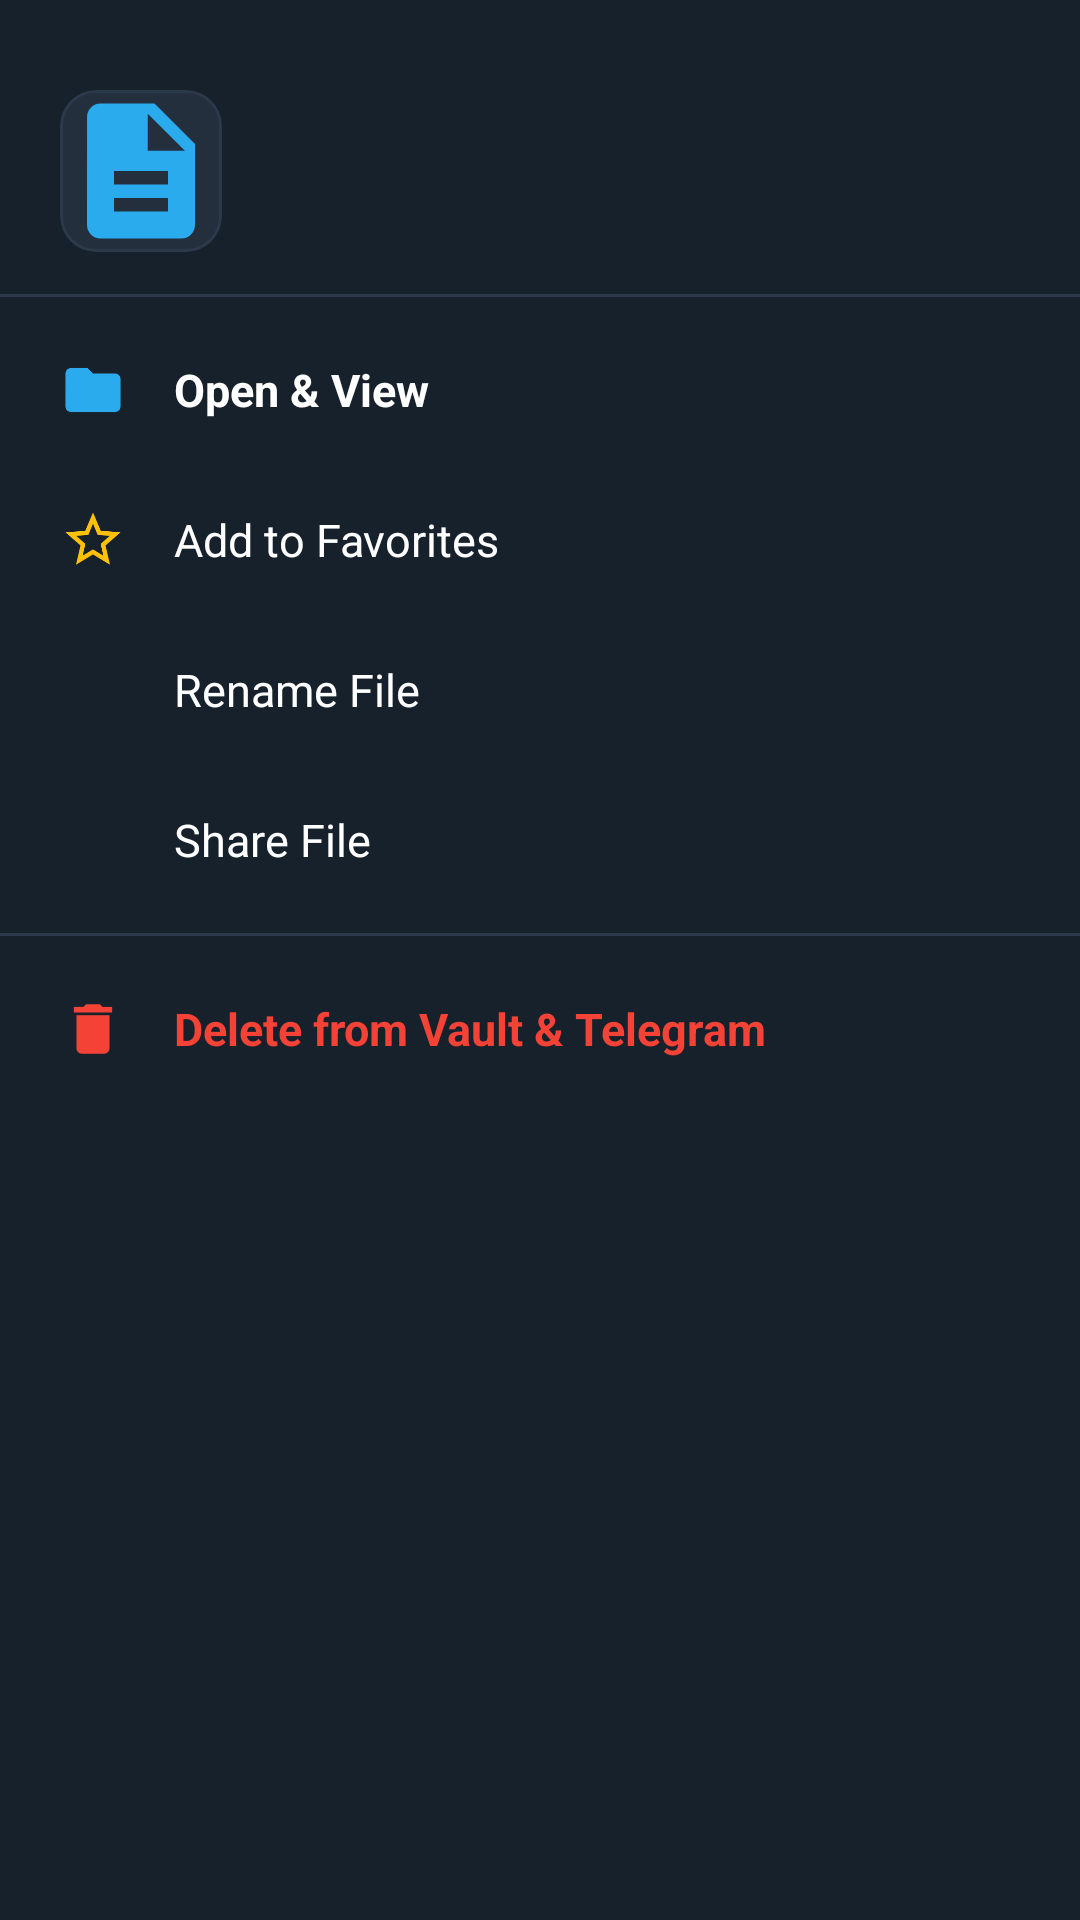

Icon bounding boxes for this 1080px×1920px phone screenshot, format bbox=[x1, y1, x2, y2]:
doc: bbox=[60, 90, 222, 252]
folder: bbox=[65, 368, 121, 412]
star: bbox=[65, 513, 121, 565]
trash: bbox=[73, 1004, 113, 1054]
